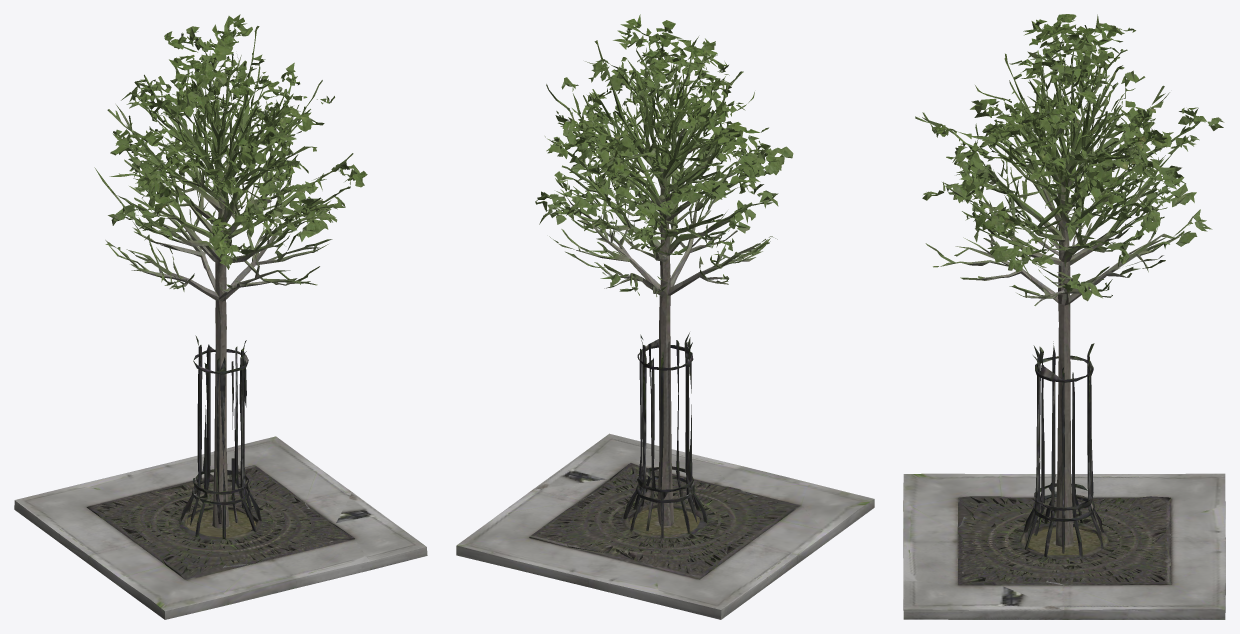
File: arbre.glb
The picture shows the model from 3 angles, left to right: view 1: azimuth 30°, elevation 25°; view 2: azimuth 150°, elevation 25°; view 3: azimuth 270°, elevation 25°; orthographic projection. The views are drawn at different scales.
Visible parts, largest first — view 1: output_unwrapped; view 2: output_unwrapped; view 3: output_unwrapped.
Part boxes in pixels (x1,y1,x2,y2): output_unwrapped: (14, 14, 427, 619); output_unwrapped: (456, 14, 874, 619); output_unwrapped: (903, 14, 1225, 619).
Size of the model in its own units: 1 by 1.84 by 1.
1 material, 1 textured.
